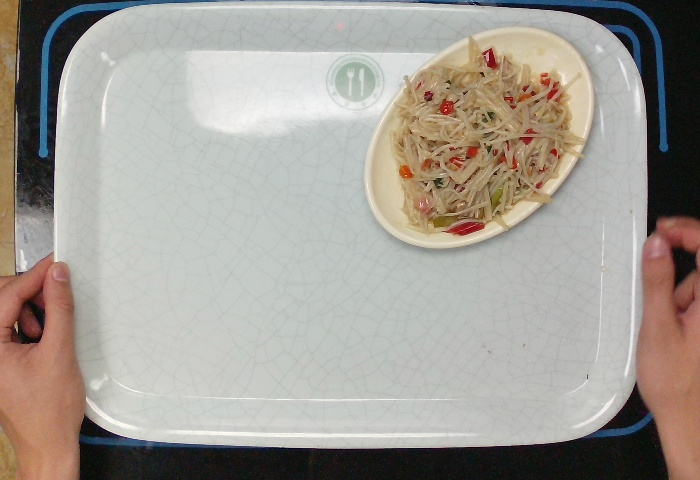JYsf-Tuo_Yuan_Wan: (359, 21, 600, 255)
